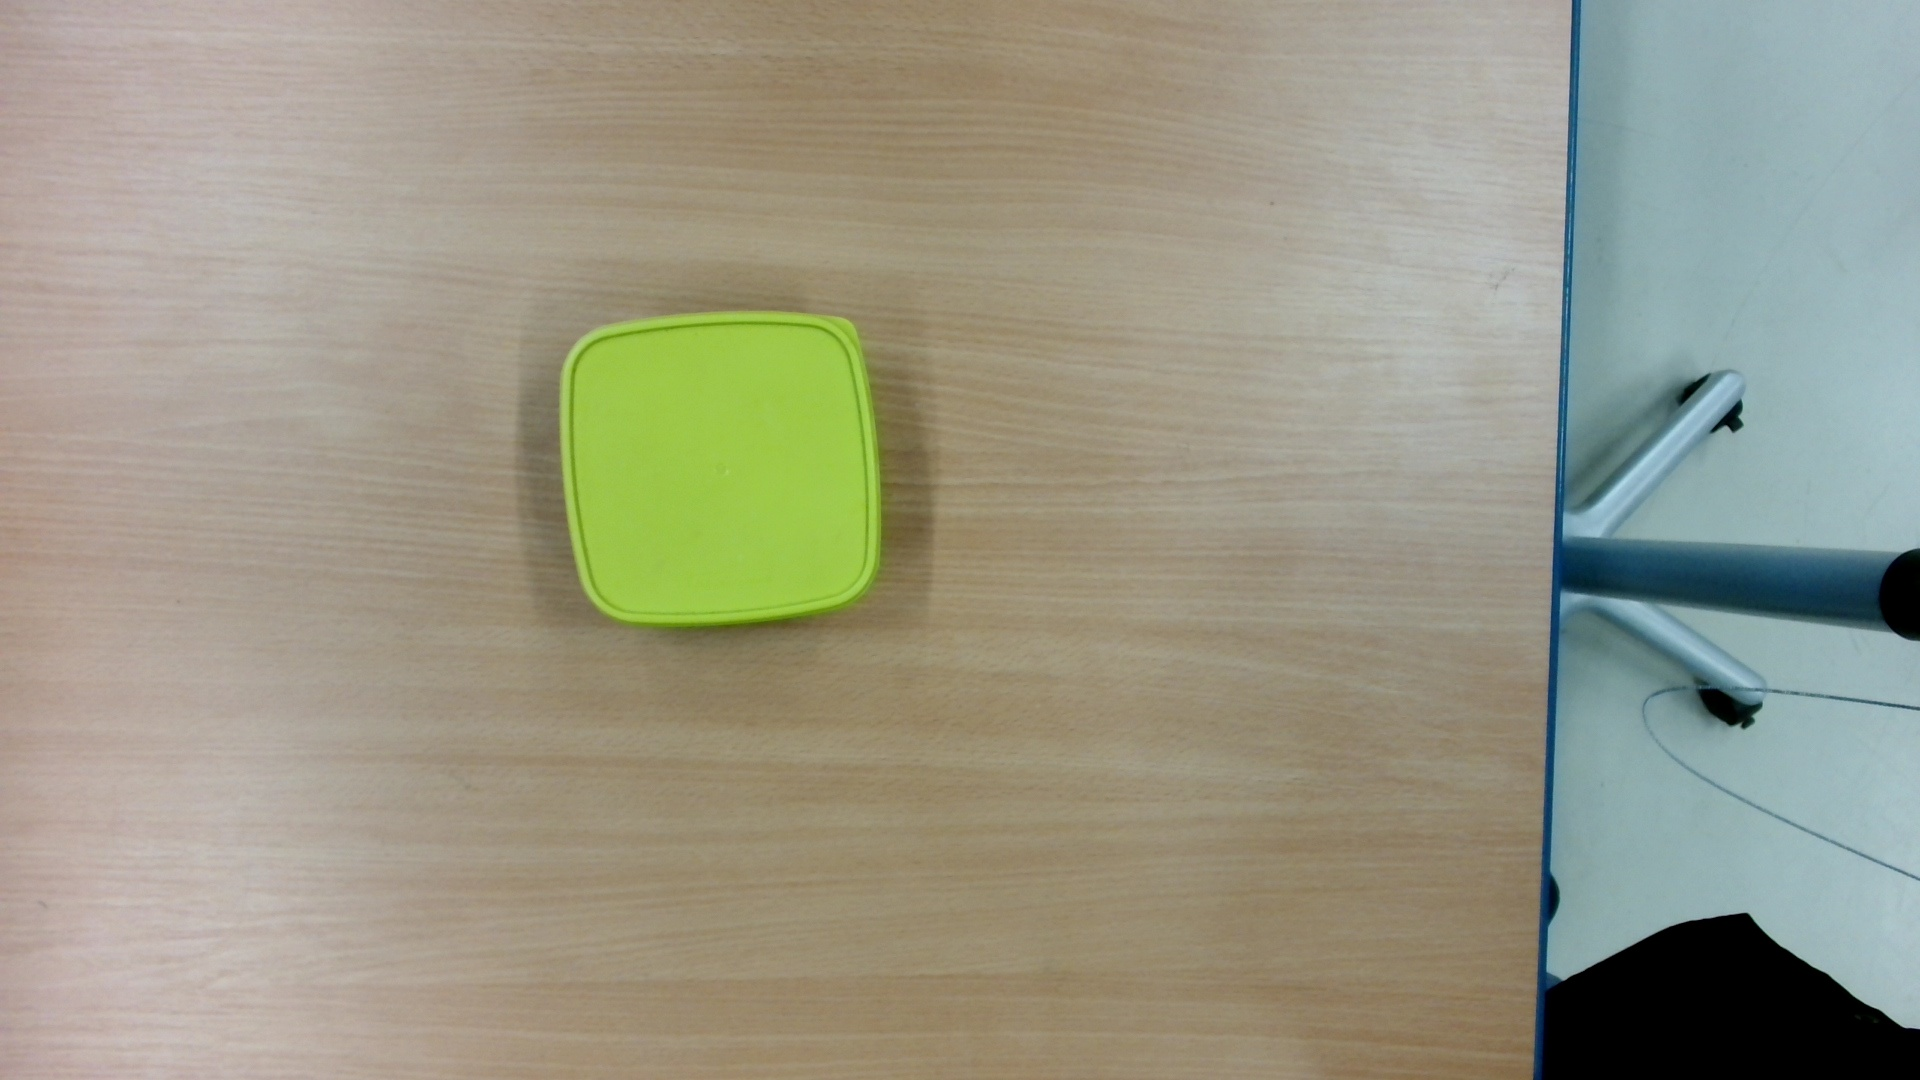Box: (549, 303, 894, 636)
